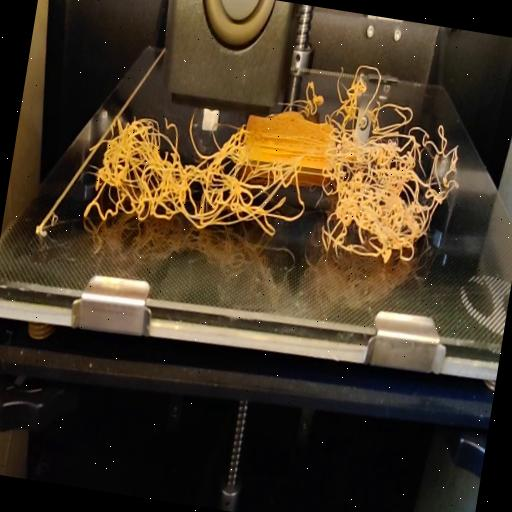spaghetti: (76, 82, 465, 282), (326, 58, 422, 130), (288, 70, 326, 112)
